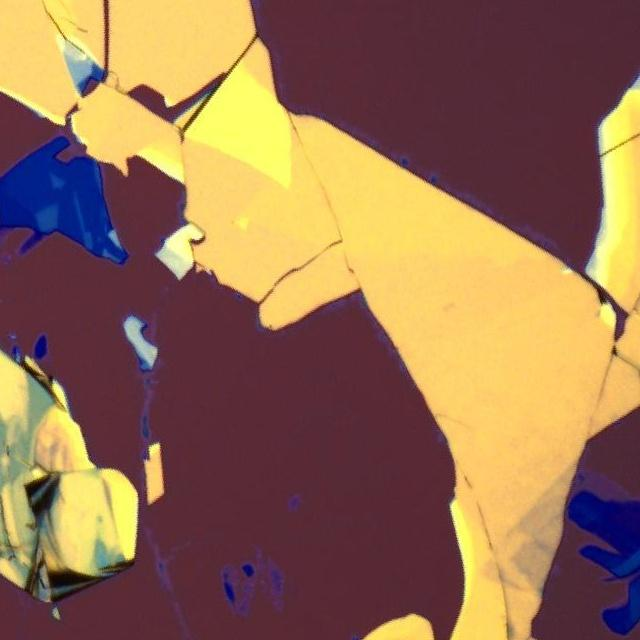monolayer-eWW4: (573, 470, 624, 502)
